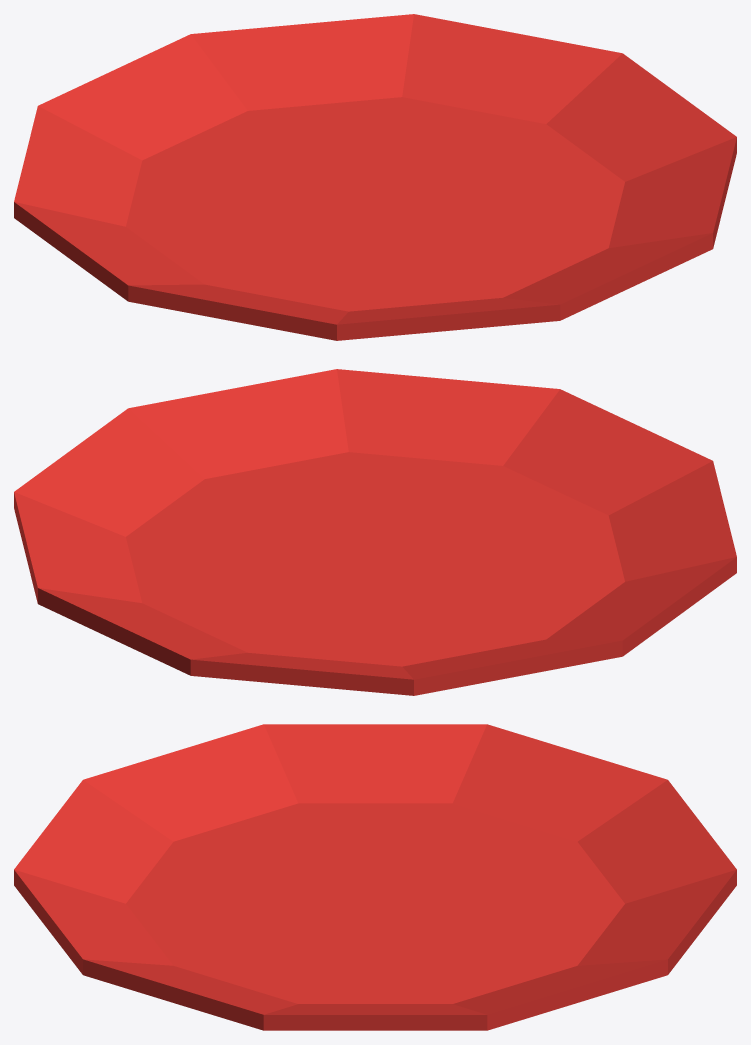
The model's file is SM_Plate_Dinner_Christmas.fbx.
The picture shows the model from 3 angles, top to bottom: view 1: azimuth 30°, elevation 25°; view 2: azimuth 150°, elevation 25°; view 3: azimuth 270°, elevation 25°; orthographic projection. The views are drawn at different scales.
Parts seen in each view (by area): view 1: plate-dinner-christmas; view 2: plate-dinner-christmas; view 3: plate-dinner-christmas.
Boxes of the visible parts, x1,y1,x2,y2 form: plate-dinner-christmas: [14, 14, 736, 340]; plate-dinner-christmas: [14, 369, 736, 695]; plate-dinner-christmas: [14, 724, 736, 1030].
Bounding box in the file's own units: 0.2995 × 0.0241 × 0.315.
